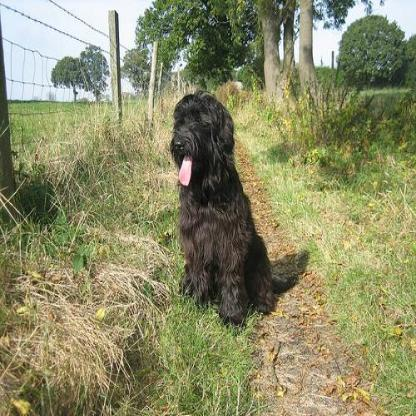briard: (168, 90, 310, 324)
